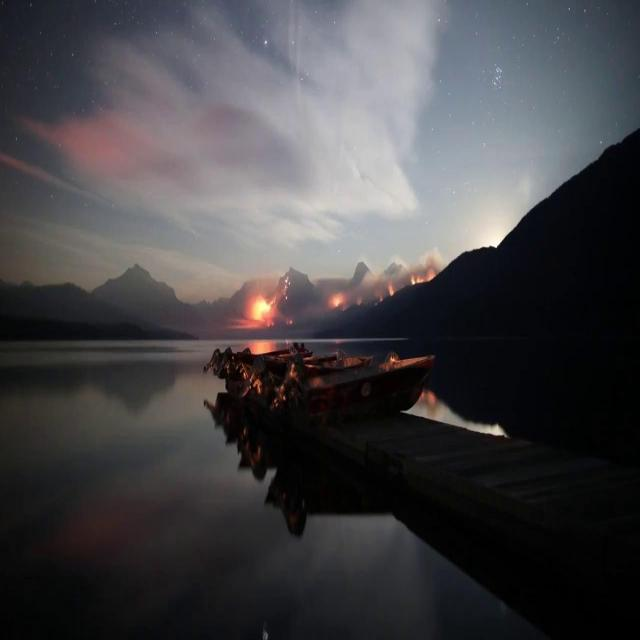Fire: (246, 298, 272, 324), (410, 273, 436, 284), (282, 274, 292, 298), (332, 296, 342, 308), (388, 283, 396, 296), (287, 316, 293, 324)
